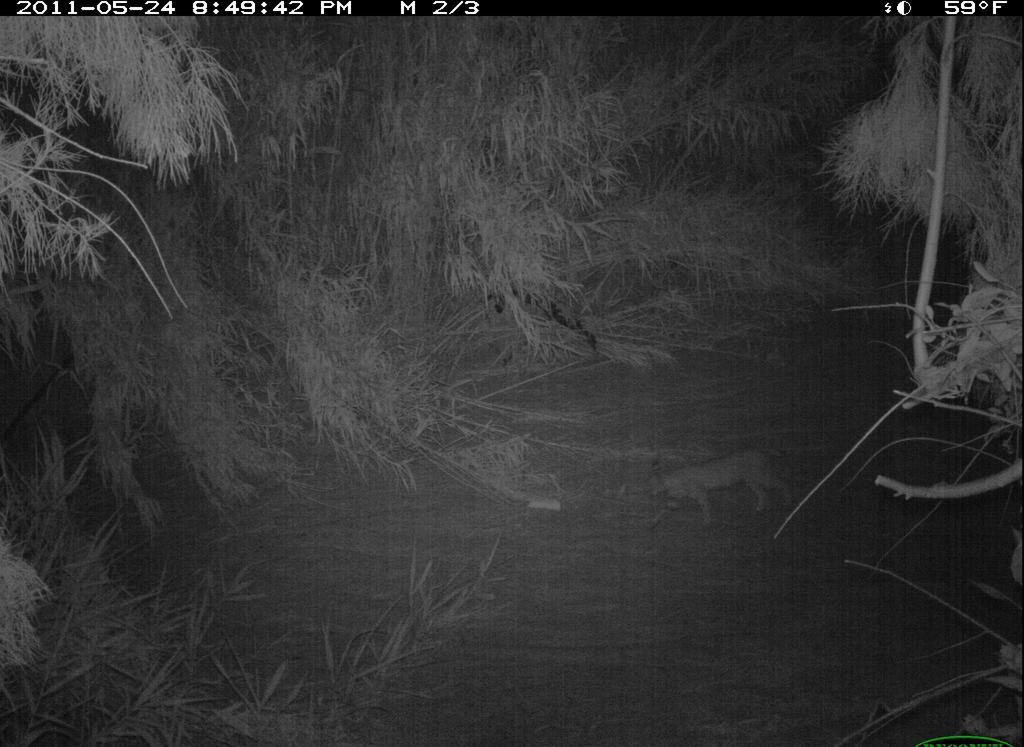bobcat: (642, 440, 798, 536)
